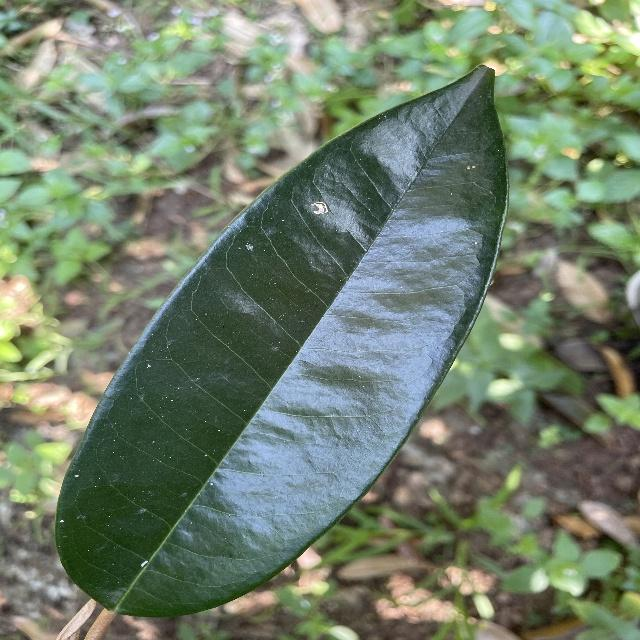No Disease: (50, 57, 519, 627)
